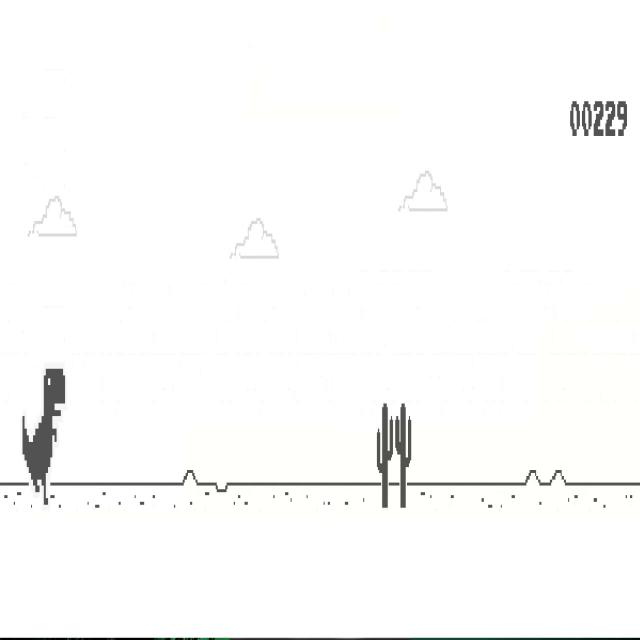cacto: (376, 403, 394, 509), (395, 403, 412, 509)
dino: (22, 368, 65, 506)
